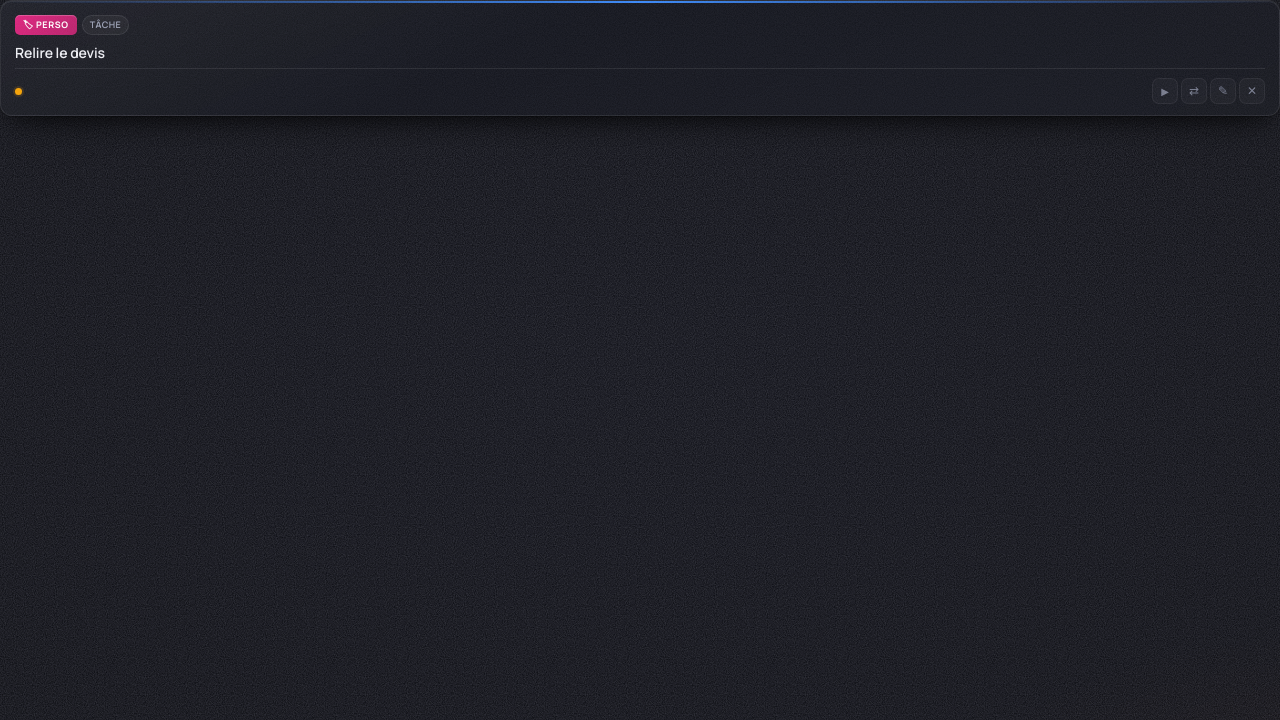
Test: TaskCard — déplacer sans glisser › ferme le menu avec Échap
Click the button named "Déplacer « Relire le devis »" at {"x": 1194, "y": 91}, box top-left (1181, 78), bottom-right (1207, 104)
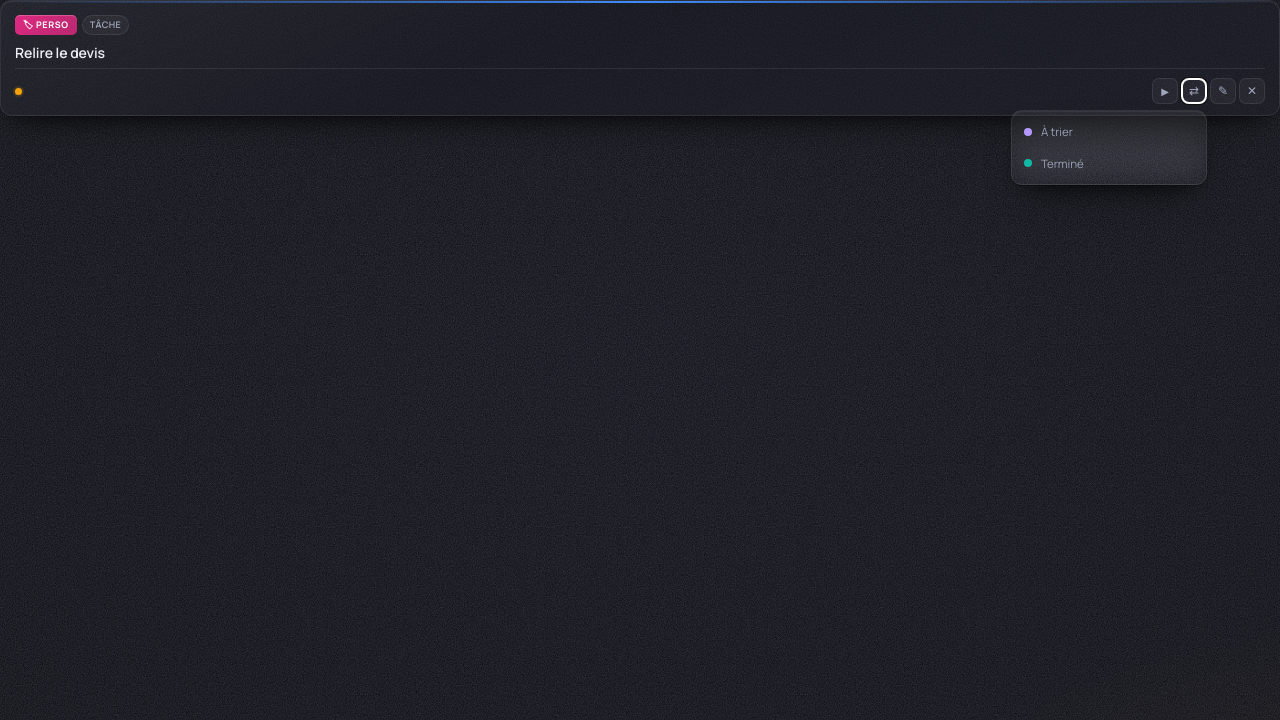
Press Escape
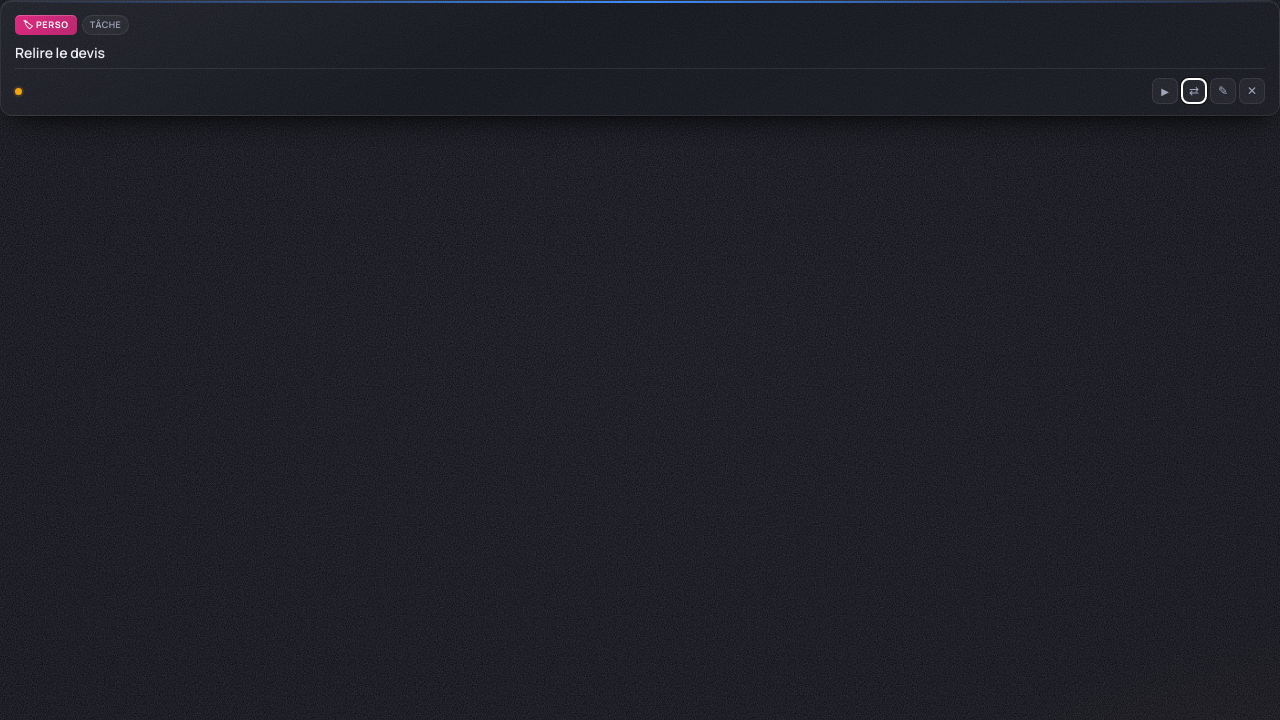
Expected: the menu is gone
